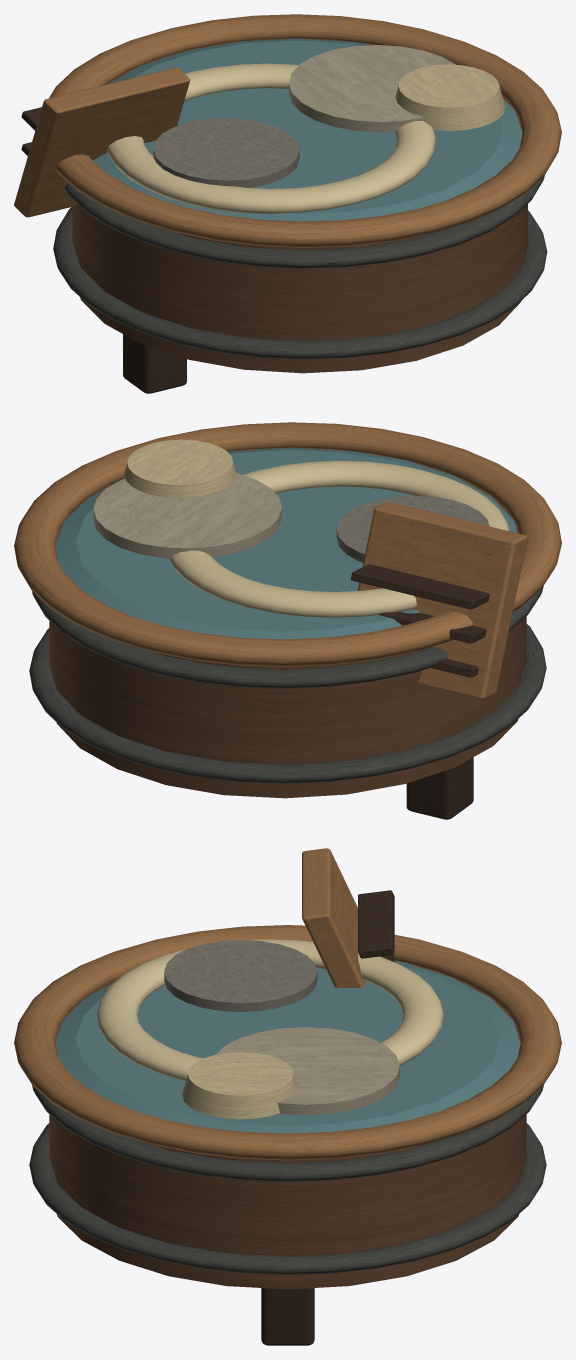
The model's file is washtub.glb.
3 renders of one model, top to bottom at view 1: azimuth 30°, elevation 25°; view 2: azimuth 150°, elevation 25°; view 3: azimuth 270°, elevation 25°, orthographic. The views are drawn at different scales.
Visible parts, largest first — view 1: washtub; view 2: washtub; view 3: washtub.
Boxes of the visible parts, x1,y1,x2,y2 form: washtub: (14, 14, 561, 393); washtub: (14, 422, 561, 819); washtub: (14, 848, 561, 1345).
Bounding box in the file's own units: 1 × 0.6 × 1.
Materials: 1 (1 with a texture image).
